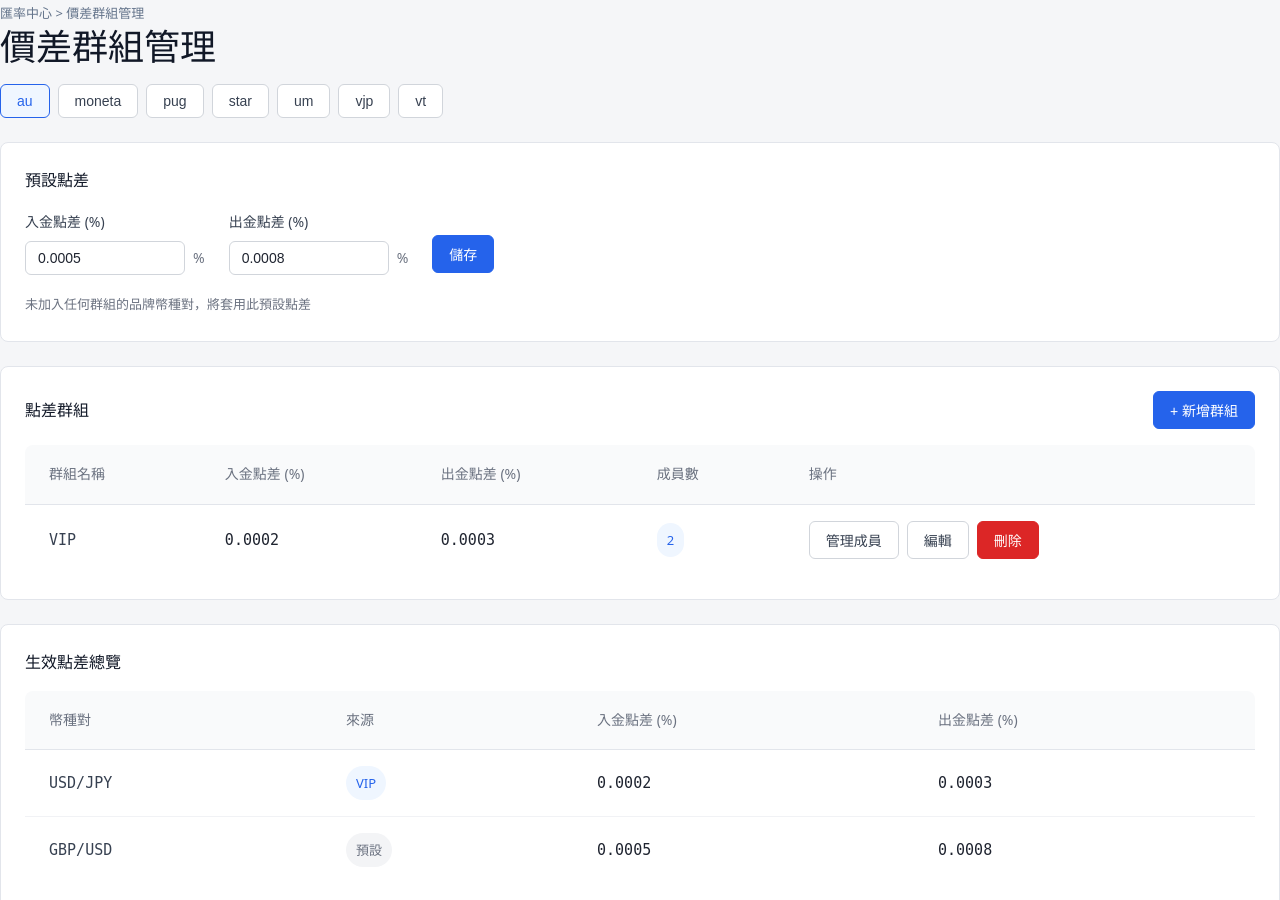
SpreadGroupManagementPage › 新增群組 submits via POST: on 202 no row is added, and a duplicate name shows an inline error without closing the modal
The width and height of the screenshot is (1280, 900).
Check: the heading "價差群組管理" is shown, box [0,22,216,71]
Check: the text "VIP" below "群組名稱" is shown, box [49,530,76,548]
Click the button "+ 新增群組" at (1204, 410), box [1153,392,1255,430]
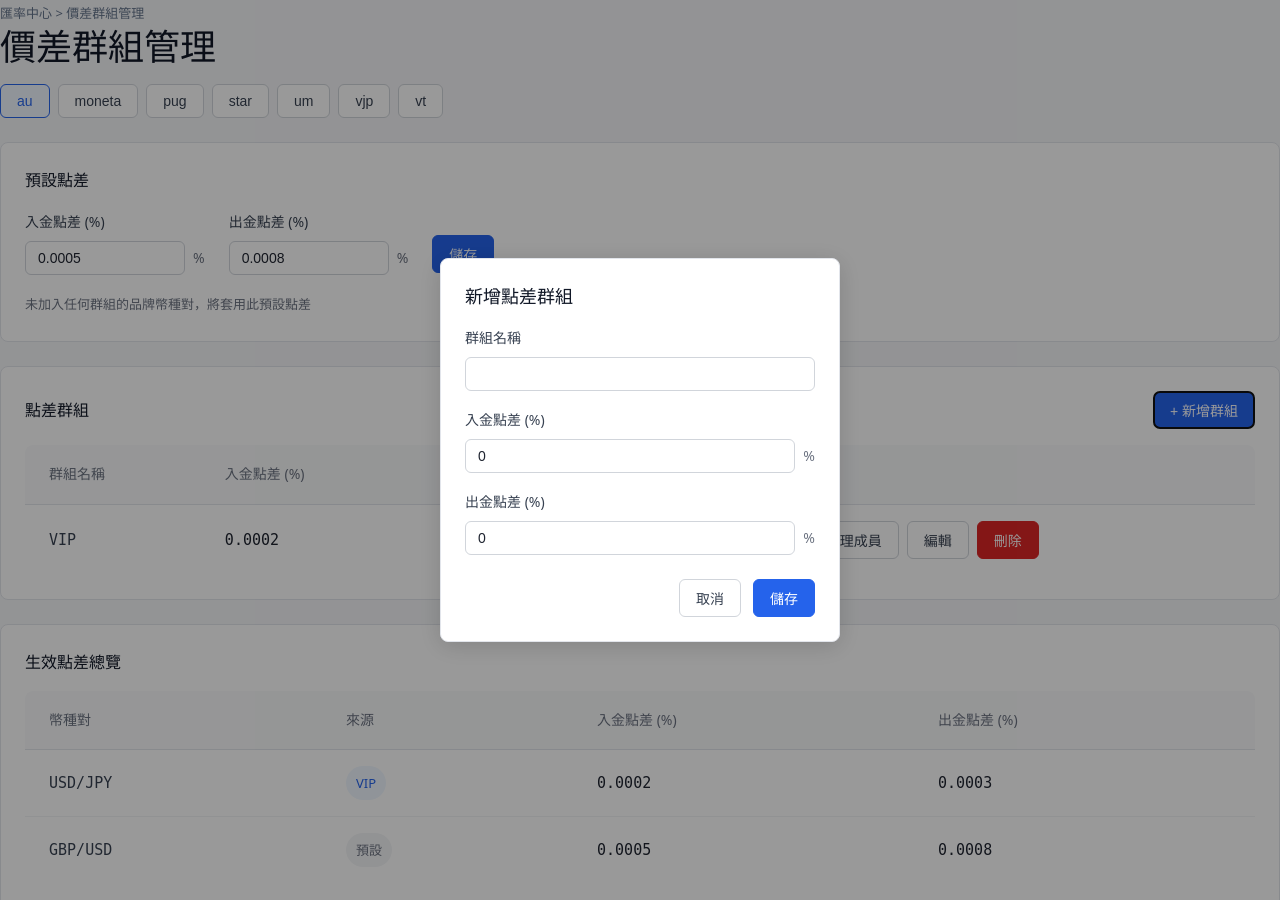
Type "STD" into the field labelled "群組名稱" at (640, 374), box [465,357,815,391]
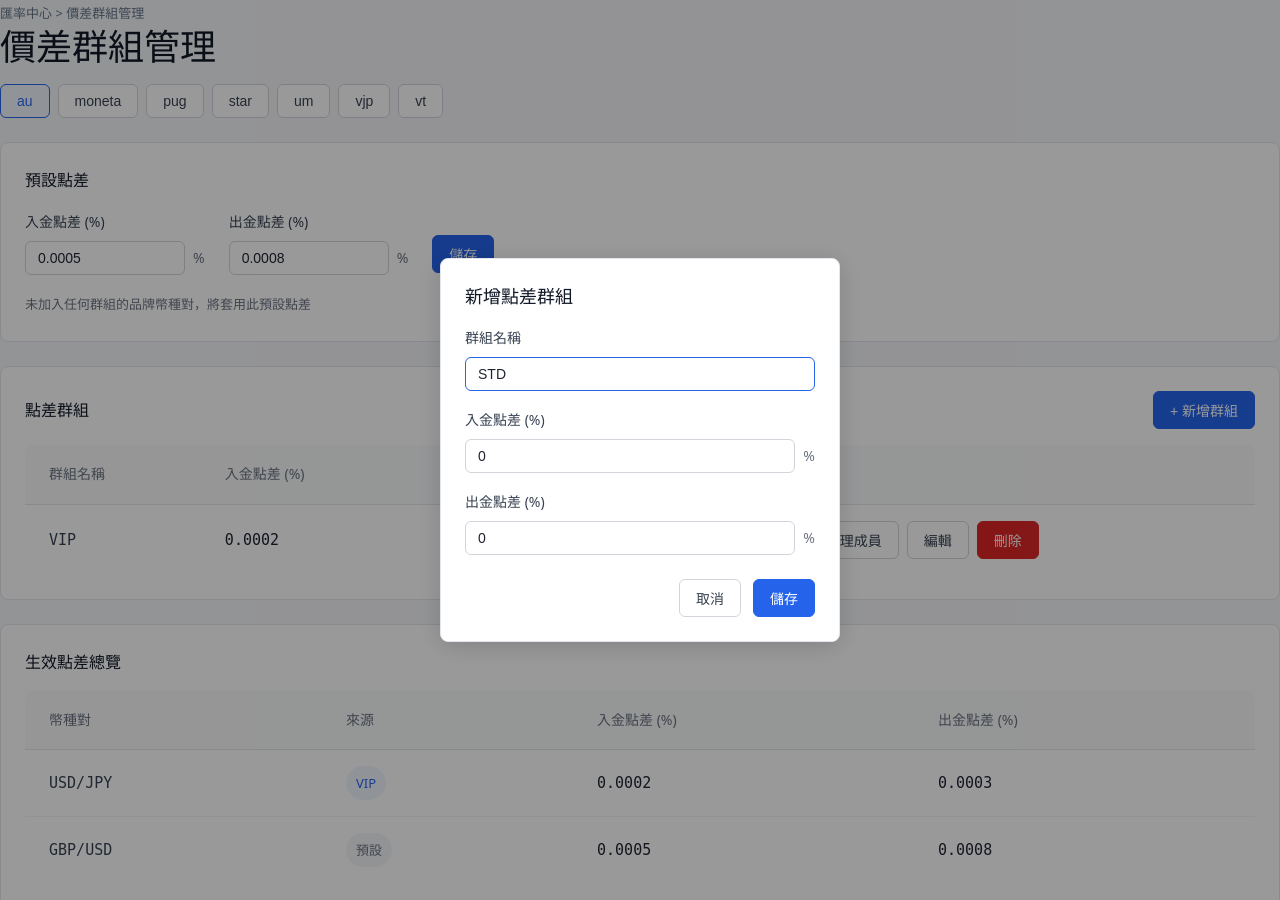
Click the button "儲存" at (784, 598), box [753,579,815,617]
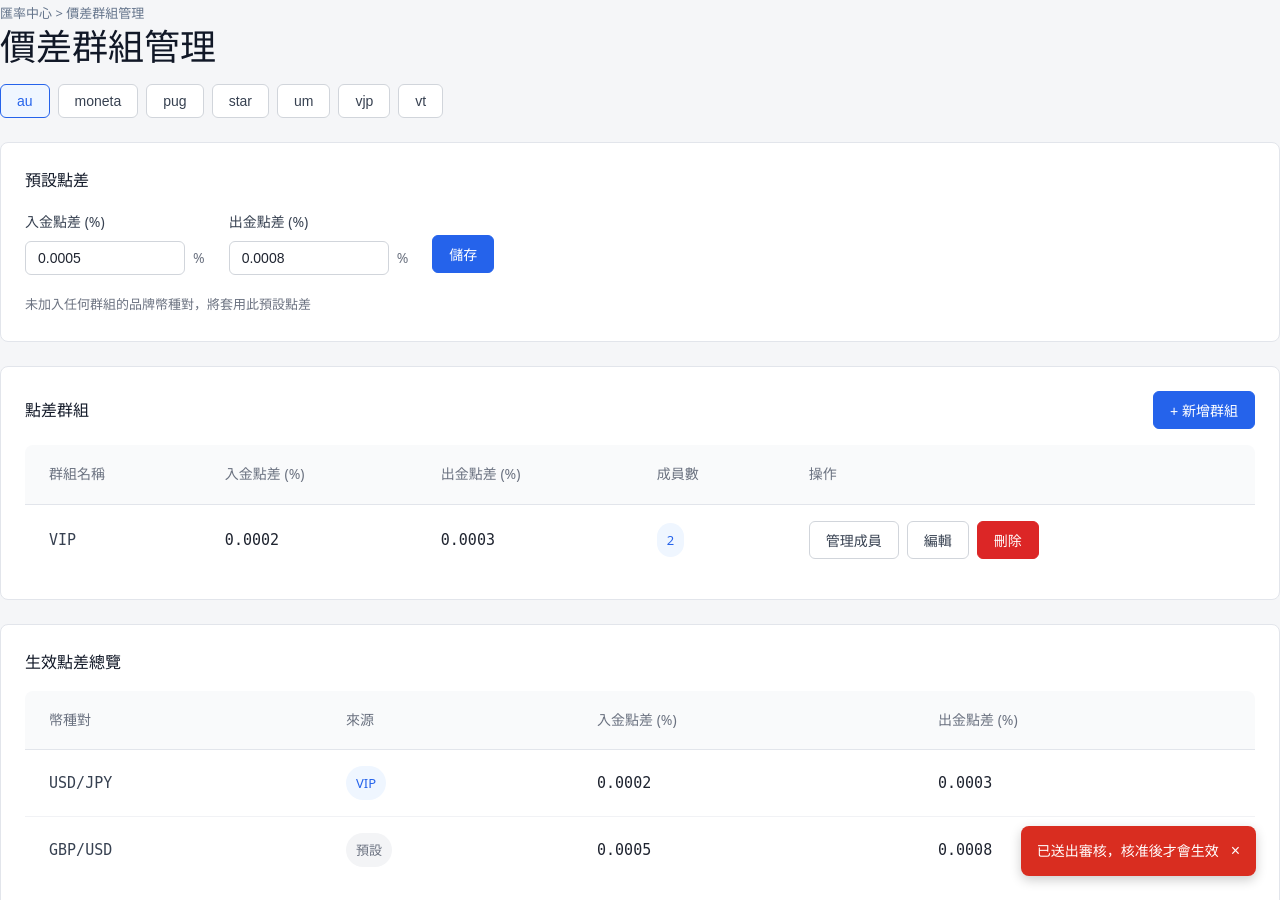
Check: the text "STD" is not shown
Check: the text "已送出審核，核准後才會生效" is shown, box [1037,838,1219,864]
Check: the heading "新增點差群組" is gone
Click the button "+ 新增群組" at (1204, 410), box [1153,392,1255,430]
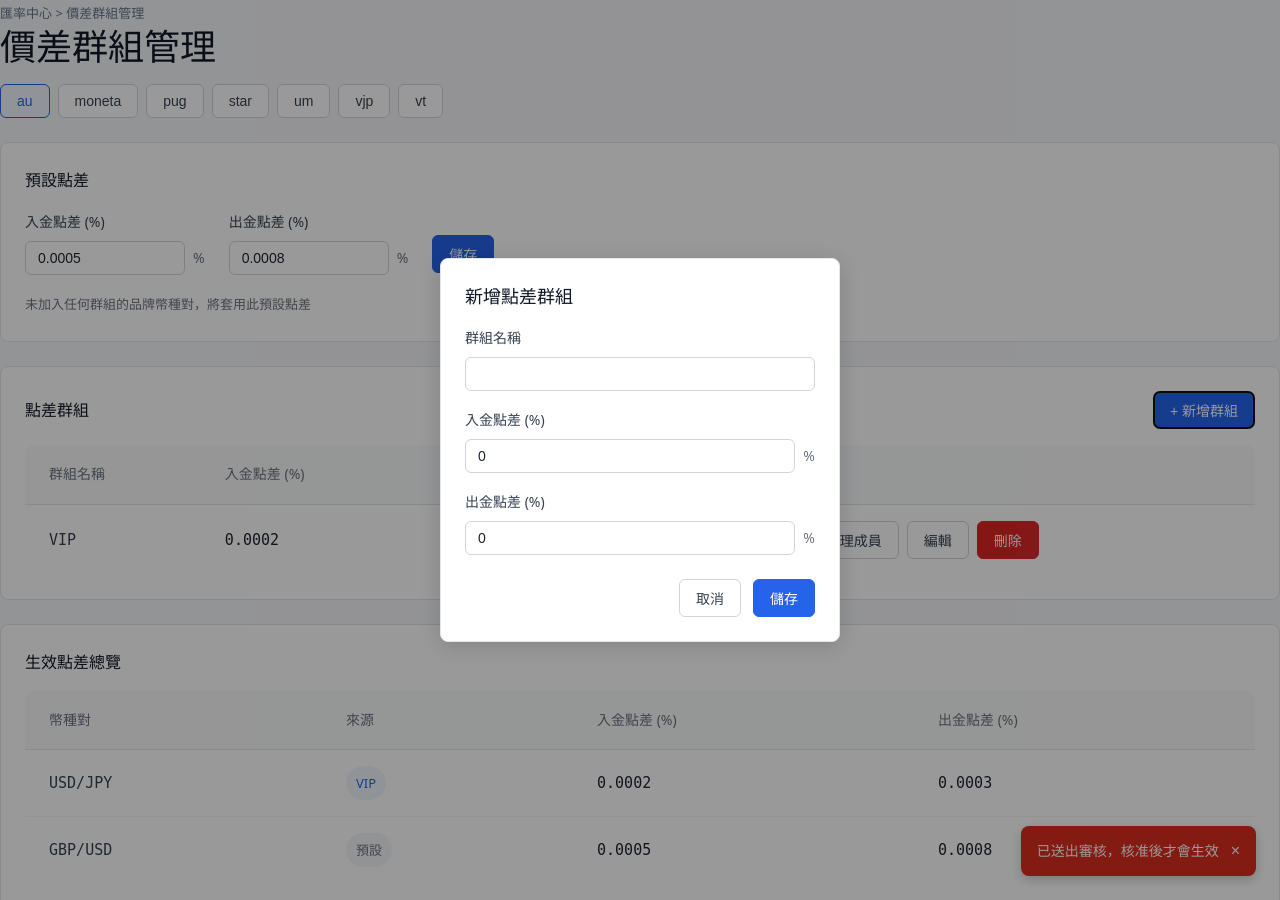
Type "VIP" into the field labelled "群組名稱" at (640, 374), box [465,357,815,391]
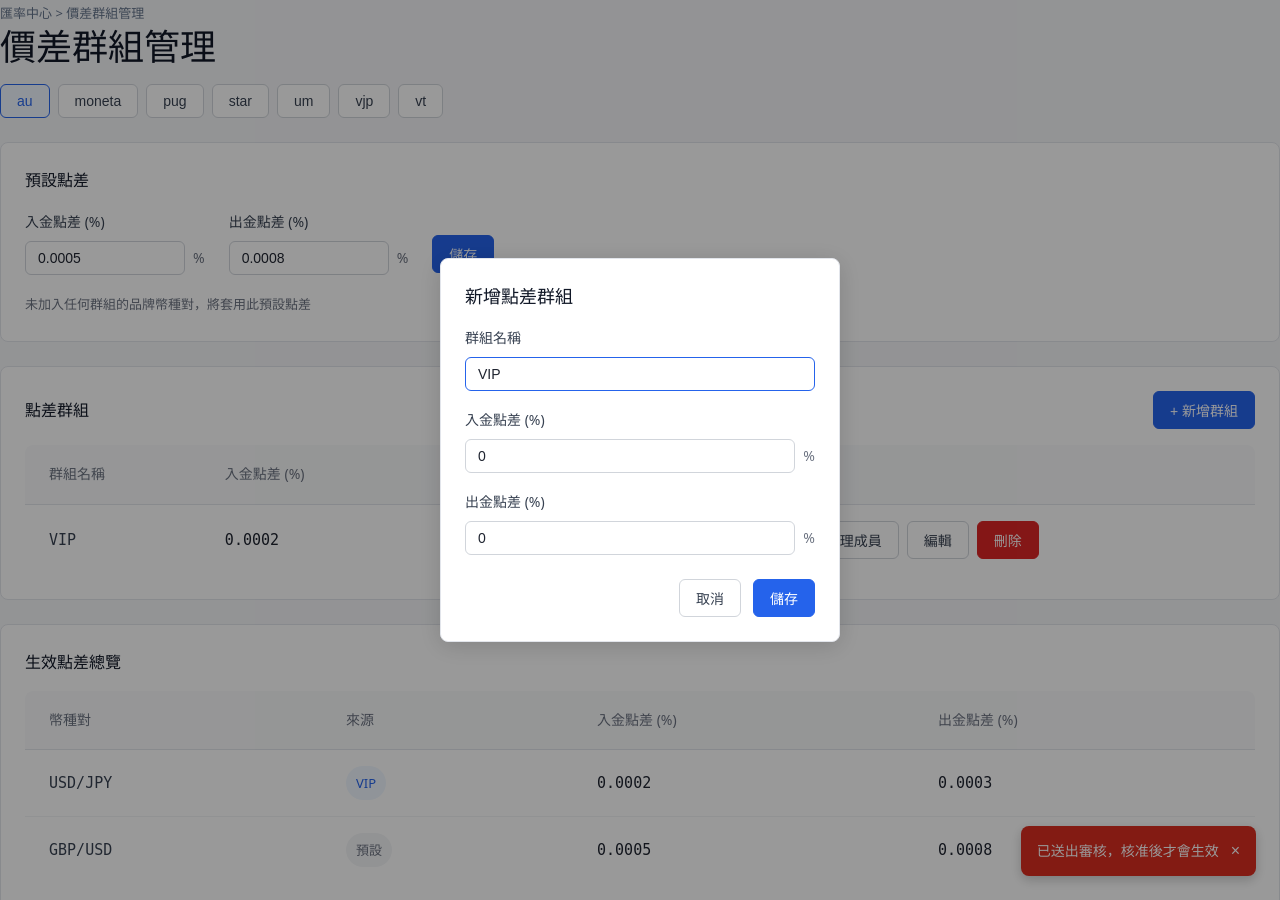
Click the button "儲存" at (784, 598), box [753,579,815,617]
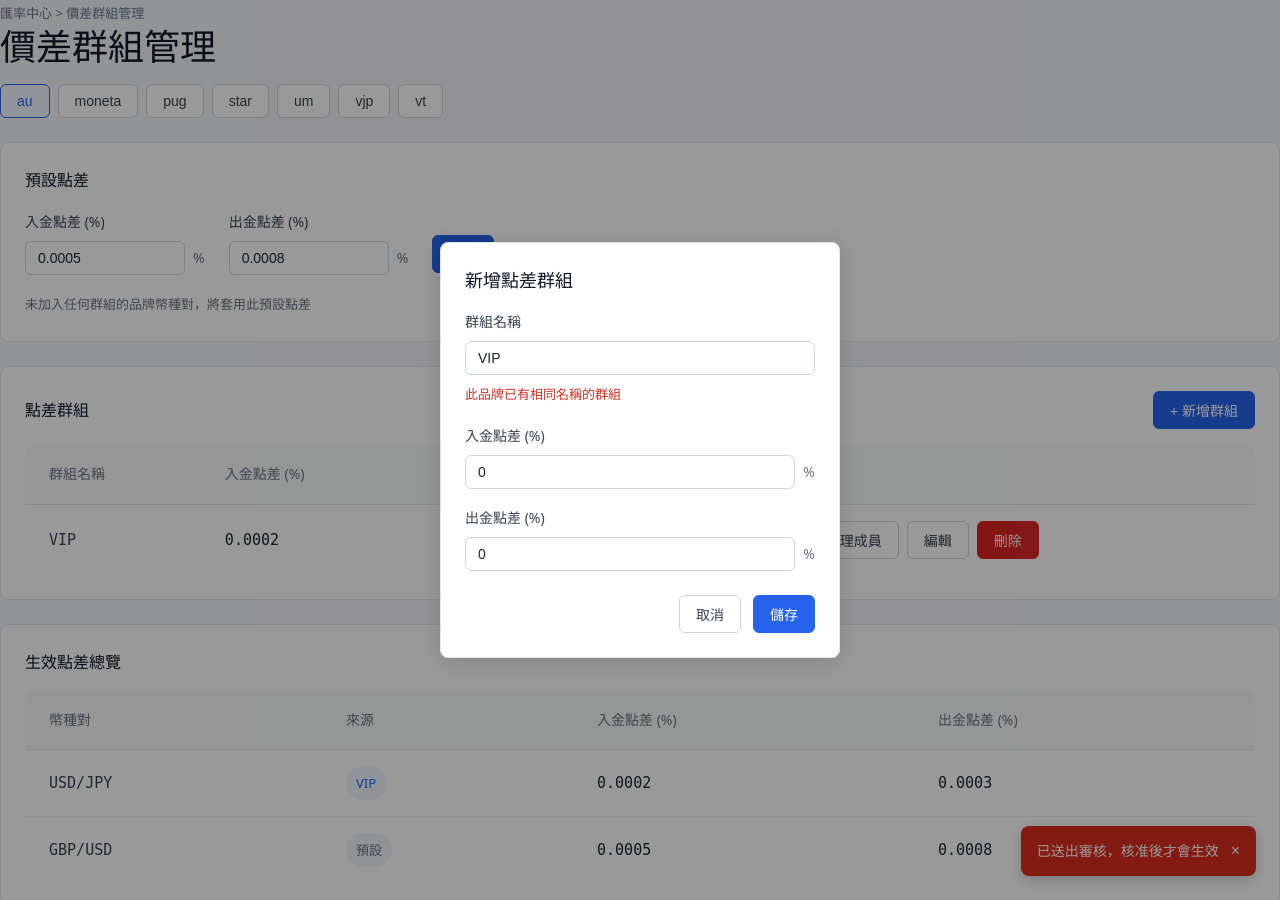
Check: the heading "新增點差群組" is shown, box [465,268,573,292]
Check: the text "此品牌已有相同名稱的群組" is shown, box [465,385,621,403]
